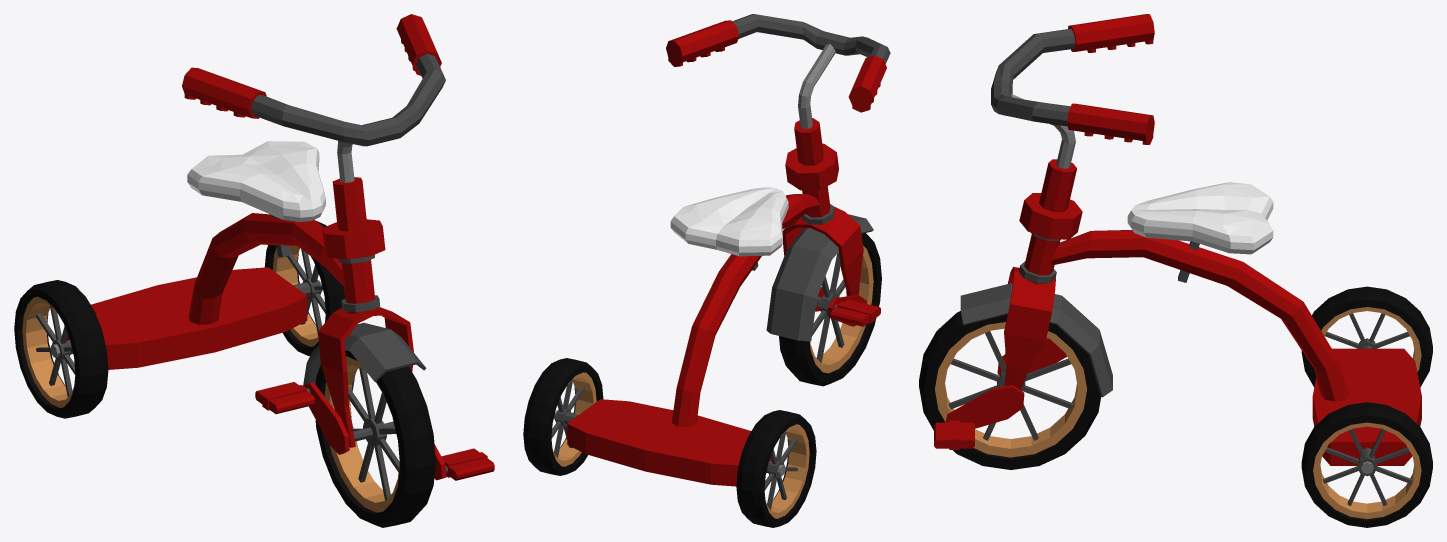
The model's file is tricycle.obj.
The picture shows the model from 3 angles, left to right: view 1: azimuth 30°, elevation 25°; view 2: azimuth 150°, elevation 25°; view 3: azimuth 270°, elevation 25°; orthographic projection. The views are drawn at different scales.
Size of the model in its own units: 4.23 by 6.14 by 7.11.
